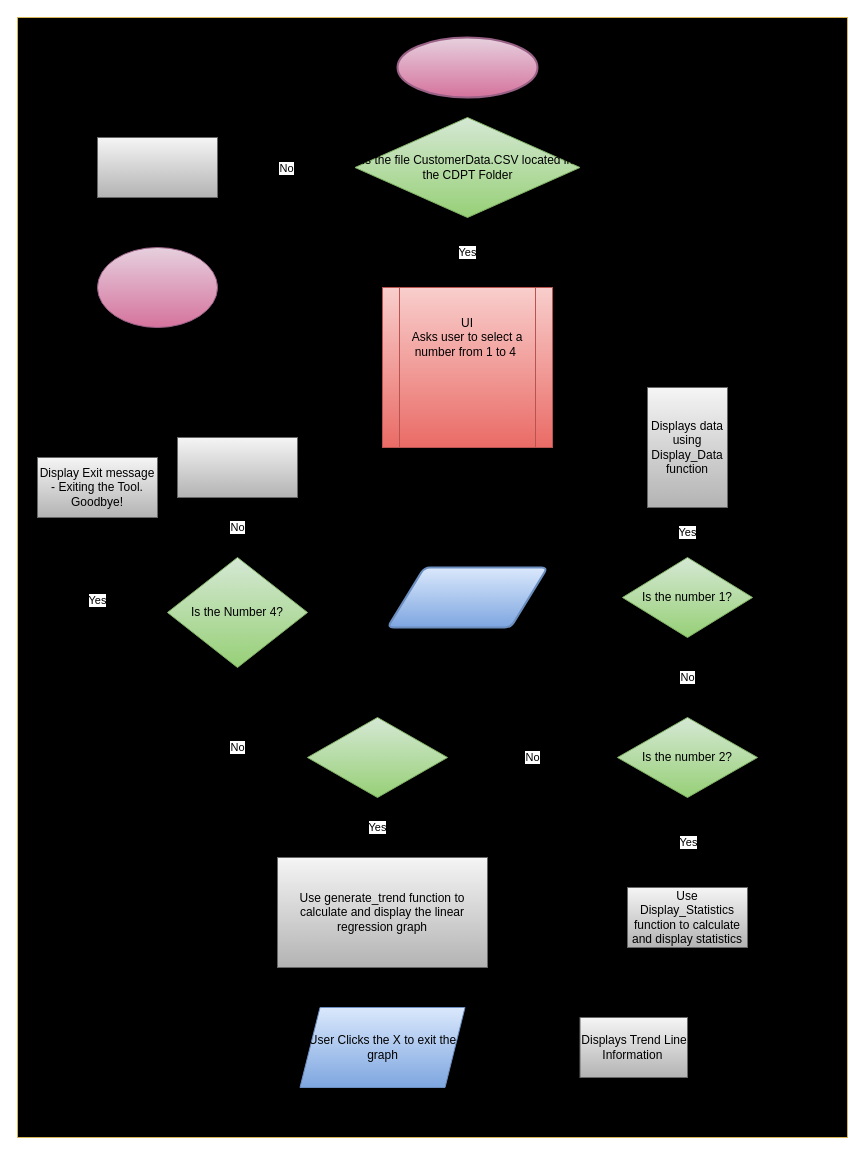
The diagram is 865 pixels wide and 1155 high, and some of its shapes have lost their labels. The shapes that lost their labels are listed below. From the top down, each one's box as (x1, y1, x2, y2) in pixels, then its label:
(396, 36, 538, 98): User Starts CDPT
(96, 136, 218, 198): Diplay - Error:File Not Found. Make sure the CSV file is in the correct location
(96, 246, 218, 328): Program Terminated
(176, 436, 298, 498): Displays Error - Invalid choice. Please Try Again.
(386, 566, 548, 628): User input
(306, 716, 448, 798): Is the number 3?
